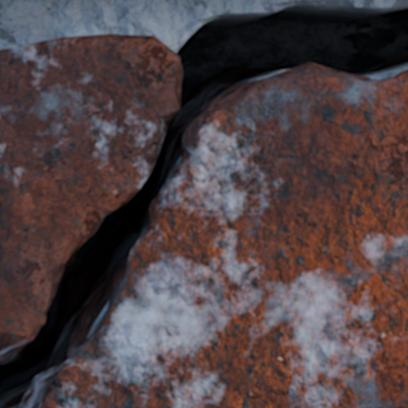broken_brick: (38, 64, 407, 407), (0, 34, 178, 336), (0, 340, 4, 350)
crack: (0, 0, 407, 407)
